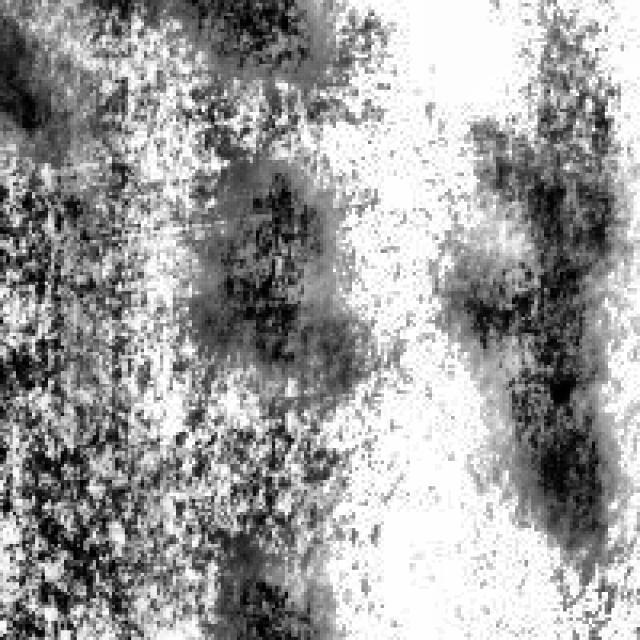Scratches: (451, 160, 618, 541), (186, 153, 336, 374), (208, 554, 339, 636), (163, 0, 317, 67), (0, 22, 74, 148)
